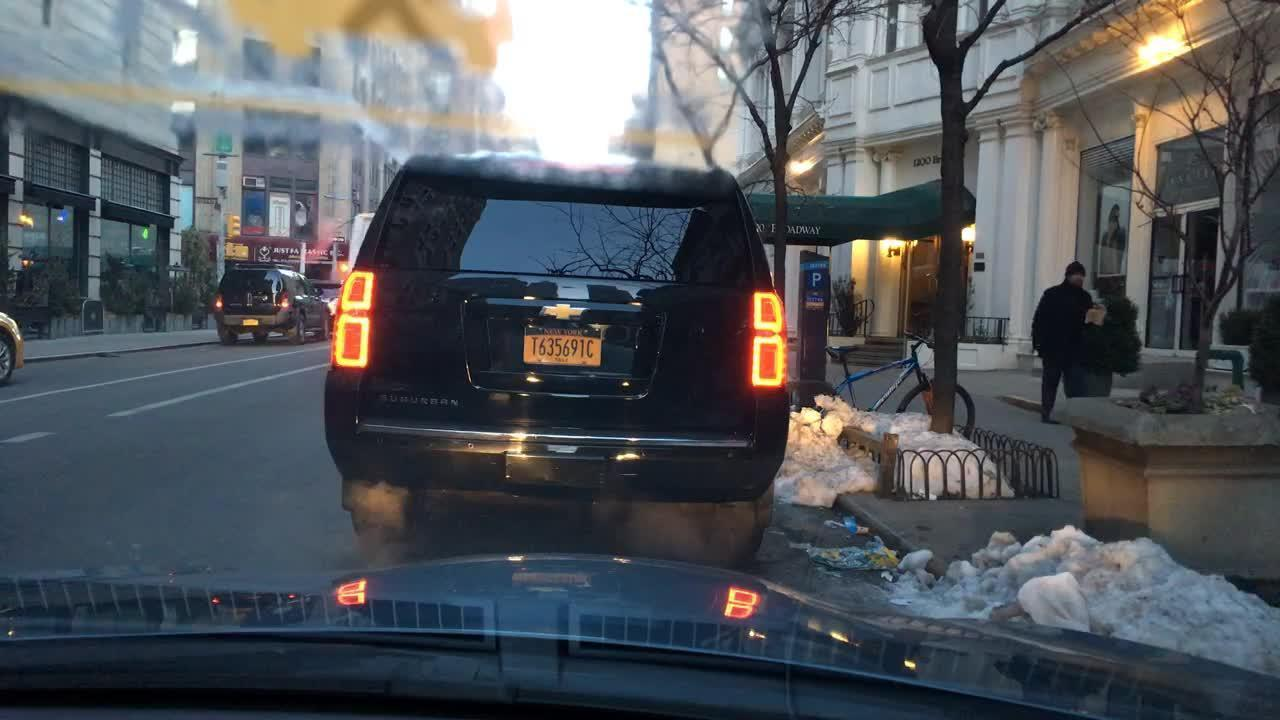chevrolet: (531, 289, 597, 333)
